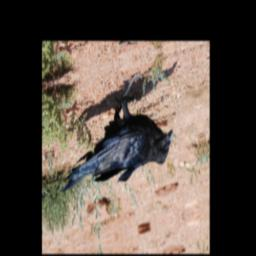Crow: (50, 62, 178, 202)
